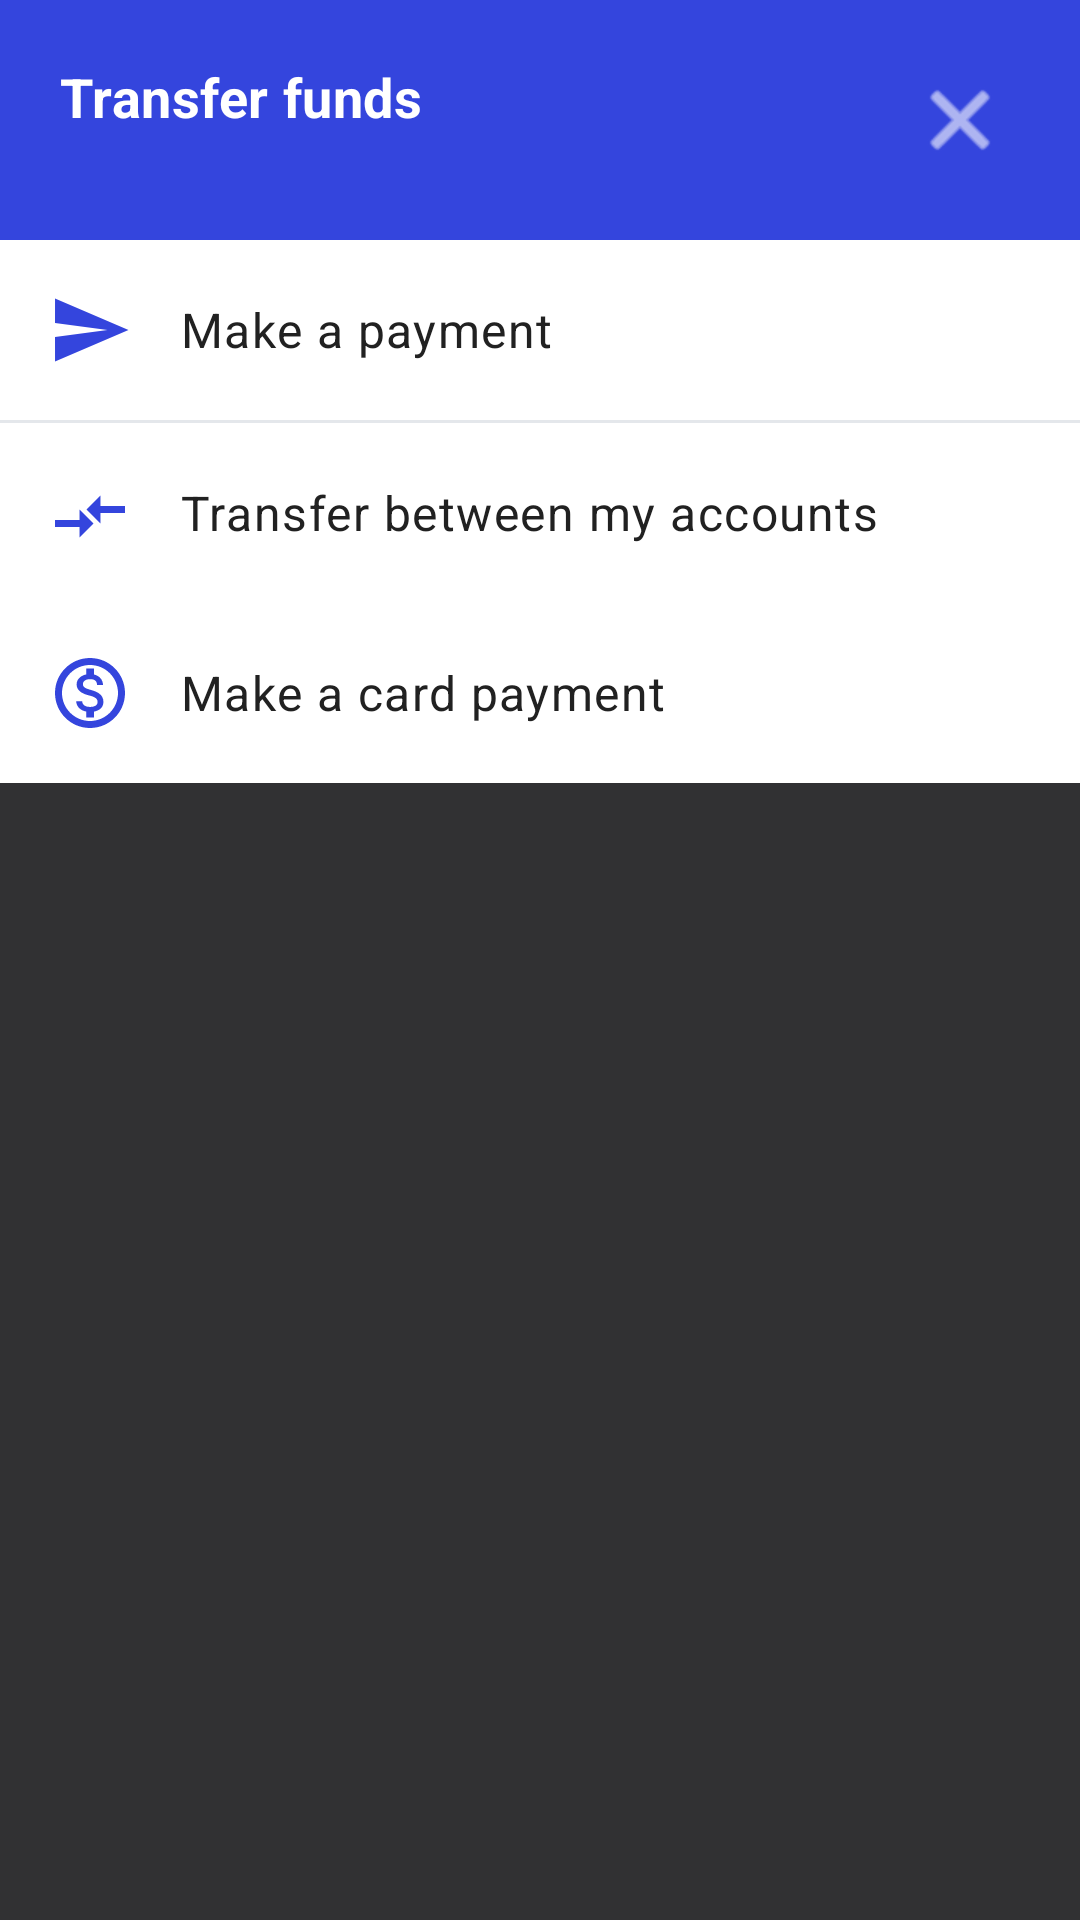

Point at icon controls on the screen. Image size 1080px×1920px, points as point (x, y).
close clear cancel: point (960, 120)
compare arrows: point (90, 516)
currency: point (90, 693)
send: point (91, 330)
